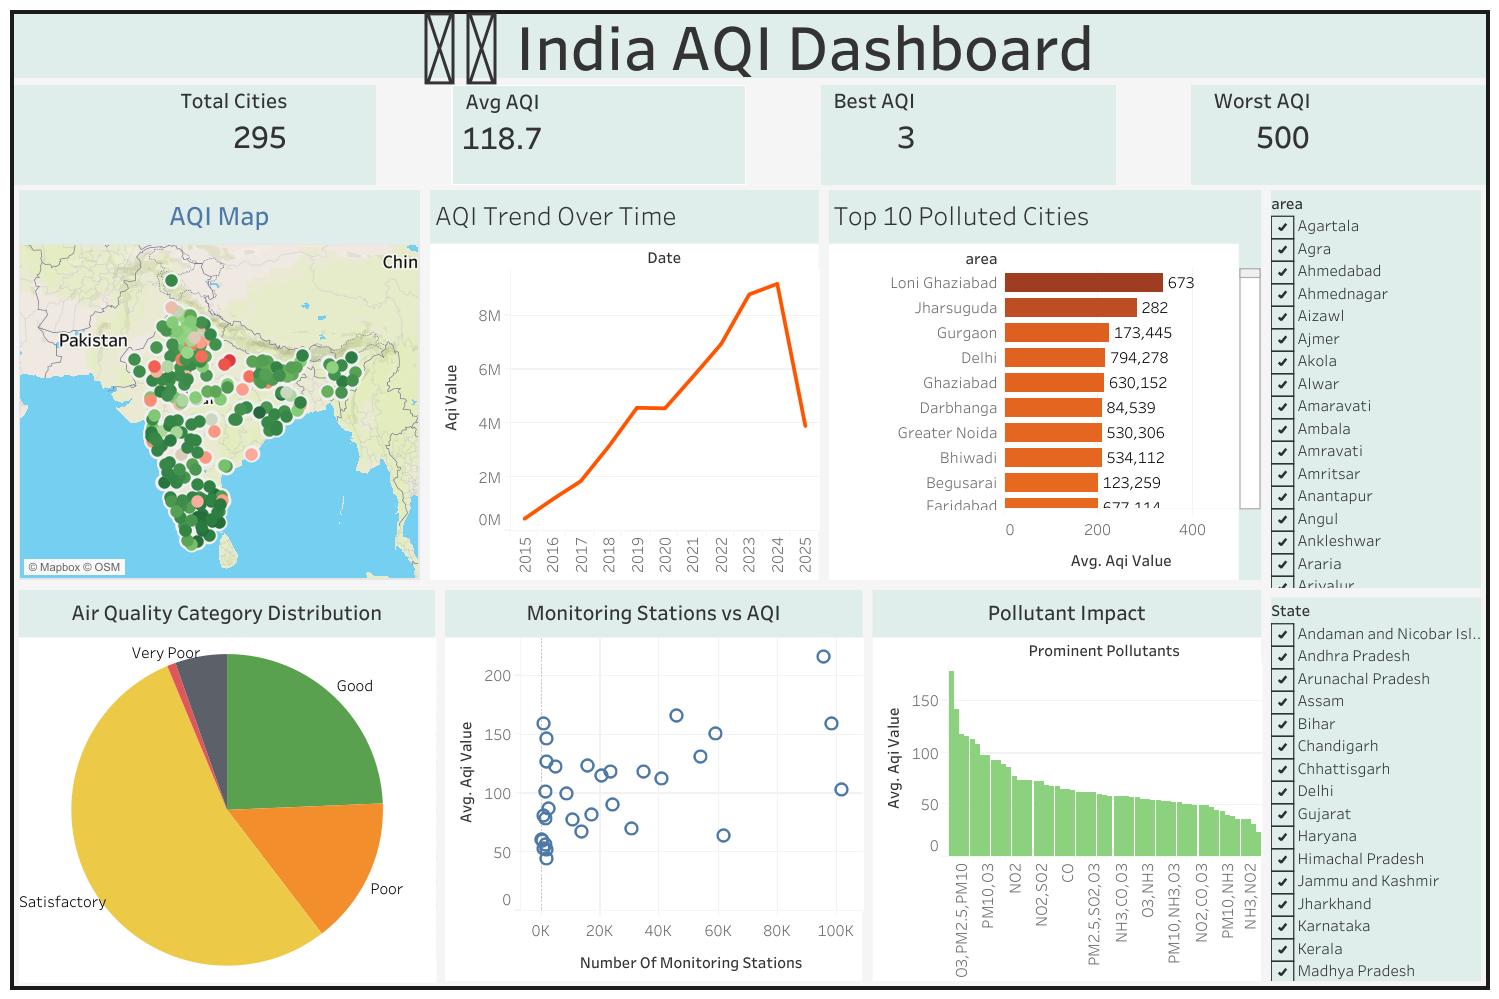

This screenshot's page, from the dashboard's own definition file:
{"tool":"tableau","page":{"name":"🇮🇳 India AQI Dashboard","canvas":[1000,1000],"units":"permille","ordinal":0},"visuals":[{"type":"title","box":[6.6,10,986.9,67.3]},{"type":"image","param":"C:/Users/abhin/Downloads/images.jpg","box":[6.6,77.3,106.5,103.5]},{"type":"worksheet","title":"card2","mark":"Automatic","box":[113.1,77.3,136.9,103.5]},{"type":"worksheet","title":"card1","mark":"Automatic","box":[250,77.3,247.8,103.5]},{"type":"worksheet","title":"card3","mark":"Automatic","box":[497.8,77.3,247.8,103.5]},{"type":"worksheet","title":"card4","mark":"Automatic","box":[745.6,77.3,247.8,103.5]},{"type":"worksheet","title":"AQI Map","mark":"Automatic","box":[6.6,180.8,275.4,404.3]},{"type":"worksheet","title":"AQI Trend Over Time","mark":"Automatic","rows":["aqi_value"],"cols":["date"],"box":[282,180.8,267.2,404.3]},{"type":"worksheet","title":"Top 10 Polluted Cities","mark":"Automatic","rows":["area"],"cols":["aqi_value"],"box":[549.2,180.8,296.7,404.3]},{"type":"filter","title":"AQI Trend Over Time","param":"[federated.01cwa1e1lyn1qb1bx8q4q1gitu4i].[none:area:nk]","box":[845.9,180.8,147.5,406.5]},{"type":"worksheet","title":"Air Quality Category Distribution","mark":"Pie","box":[6.6,585.1,286.1,404.9]},{"type":"worksheet","title":"Monitoring Stations vs AQI","mark":"Automatic","rows":["aqi_value"],"cols":["number_of_monitoring_stations"],"box":[292.6,585.1,286.1,404.9]},{"type":"worksheet","title":"Pollutant Impact","mark":"Automatic","rows":["aqi_value"],"cols":["prominent_pollutants"],"box":[578.7,585.1,267.2,404.9]},{"type":"filter","title":"AQI Trend Over Time","param":"[federated.01cwa1e1lyn1qb1bx8q4q1gitu4i].[none:state:nk]","box":[845.9,587.3,147.5,402.7]}]}

Visuals, with their boxes on the dashboard's canvas, which has no fixed pixel size, in thousandths of its width and height (x1, y1, x2, y2). These are canvas units, not pixel positions in the 1499x999 screenshot, which may show the page scaled, cropped or inside an application window:
title: <region>7, 10, 994, 77</region>
image: <region>7, 77, 113, 181</region>
"card2" worksheet: <region>113, 77, 250, 181</region>
"card1" worksheet: <region>250, 77, 498, 181</region>
"card3" worksheet: <region>498, 77, 746, 181</region>
"card4" worksheet: <region>746, 77, 993, 181</region>
"AQI Map" worksheet: <region>7, 181, 282, 585</region>
"AQI Trend Over Time" worksheet: <region>282, 181, 549, 585</region>
"Top 10 Polluted Cities" worksheet: <region>549, 181, 846, 585</region>
"AQI Trend Over Time" filter: <region>846, 181, 993, 587</region>
"Air Quality Category Distribution" worksheet (Pie marks): <region>7, 585, 293, 990</region>
"Monitoring Stations vs AQI" worksheet: <region>293, 585, 579, 990</region>
"Pollutant Impact" worksheet: <region>579, 585, 846, 990</region>
"AQI Trend Over Time" filter: <region>846, 587, 993, 990</region>
